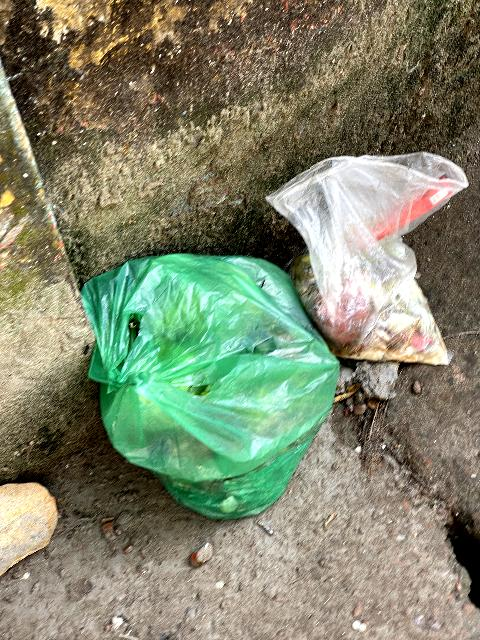polythene: (52, 154, 452, 512)
